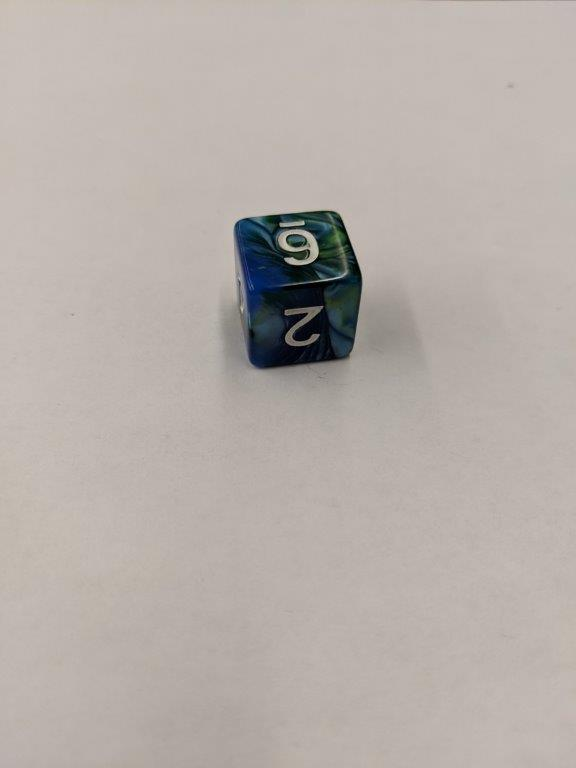d6-6: (233, 208, 366, 376)
